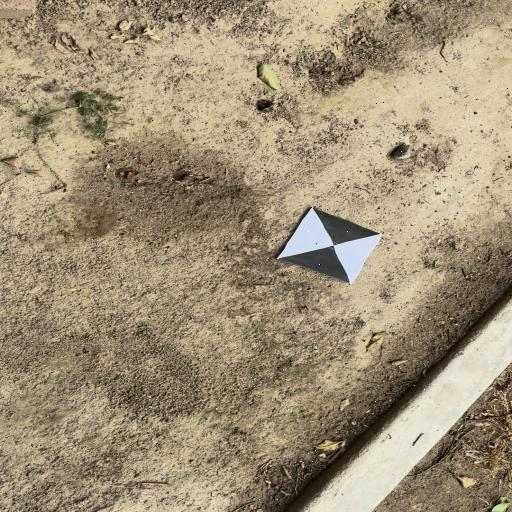target: (277, 208, 383, 283)
